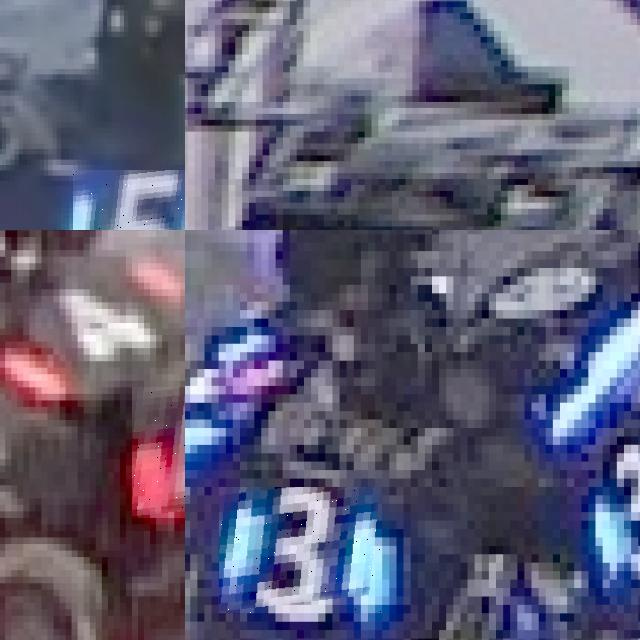B3: (219, 487, 382, 613), (581, 428, 640, 579)
B5: (73, 170, 185, 230)
R4: (132, 387, 185, 517)
